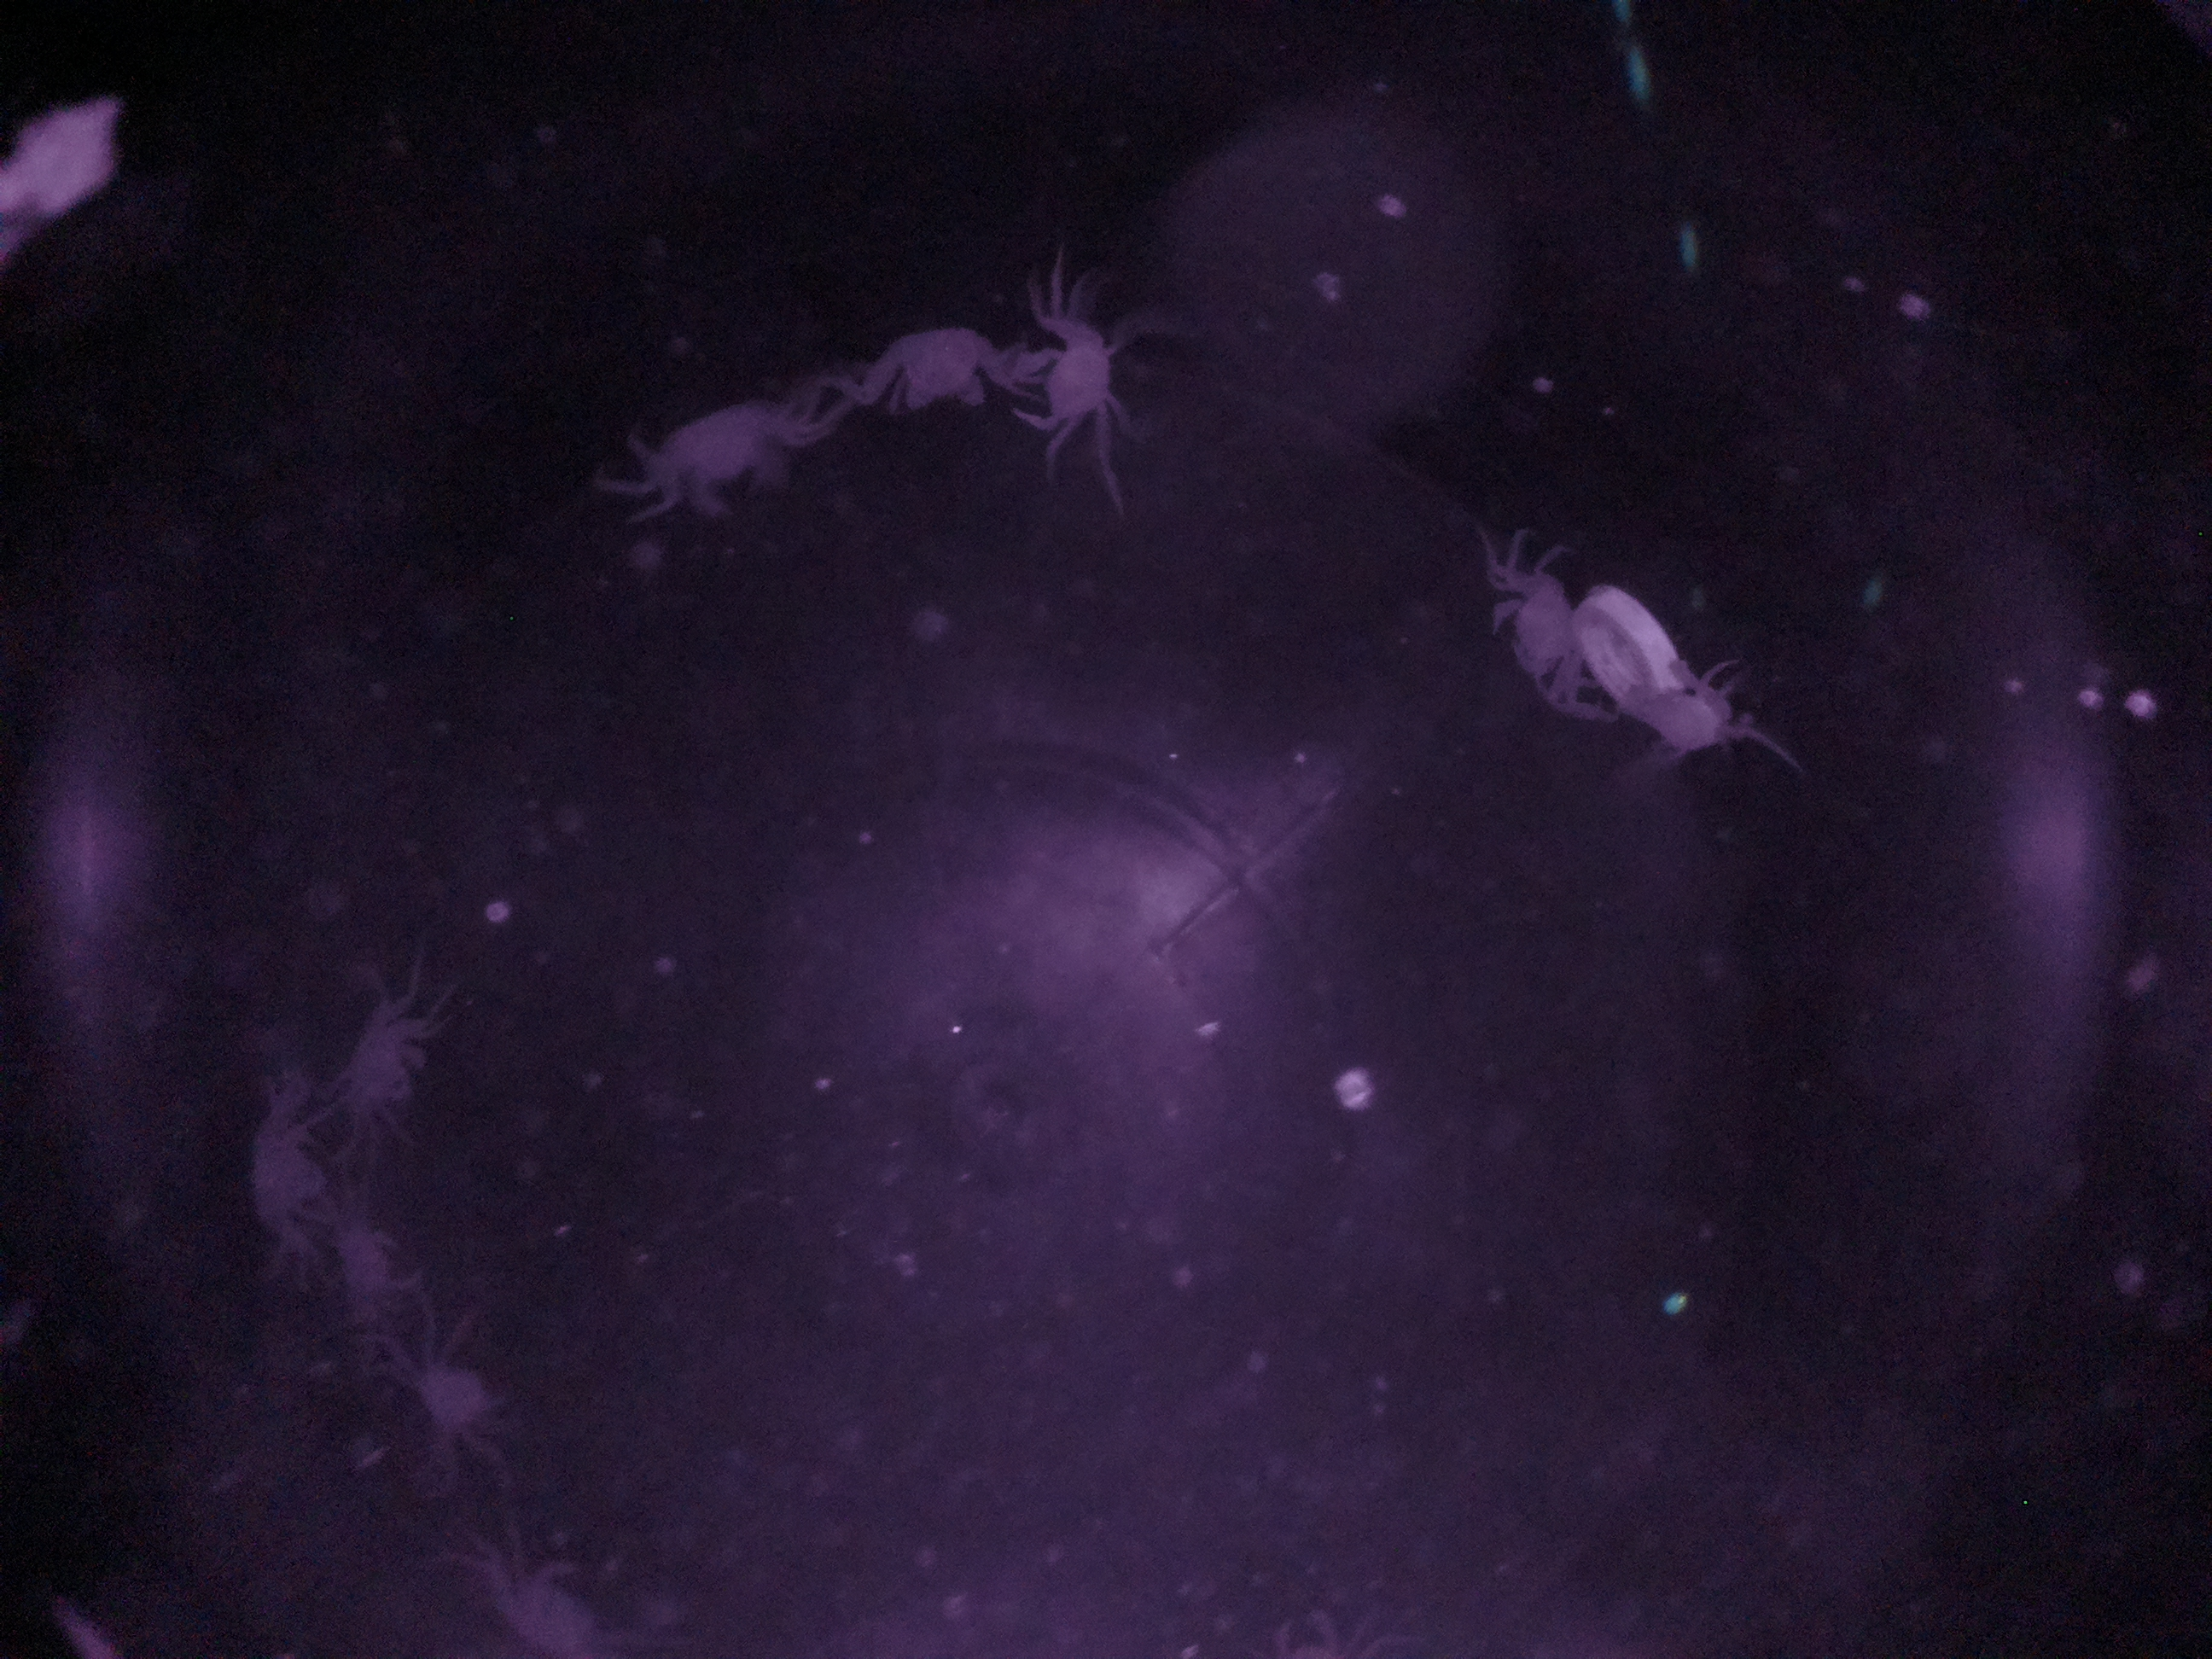Crab: (646, 383, 817, 533), (1000, 310, 1150, 451), (1472, 556, 1595, 706), (850, 317, 998, 420)
